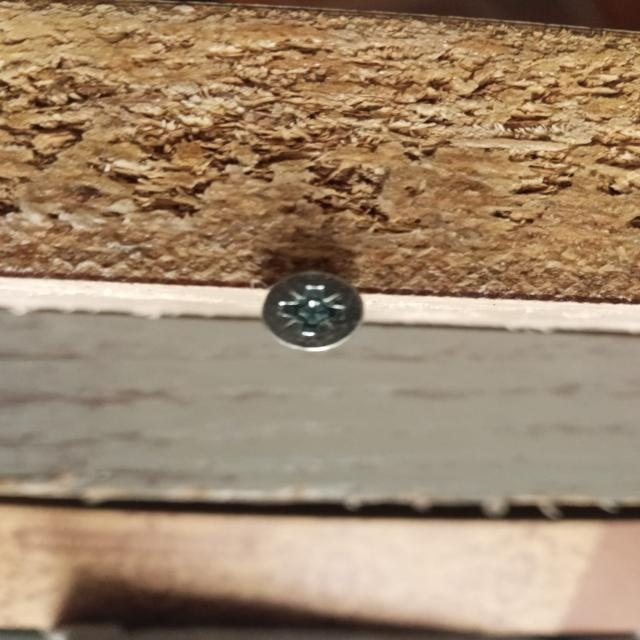pozidriv: (262, 270, 363, 351)
